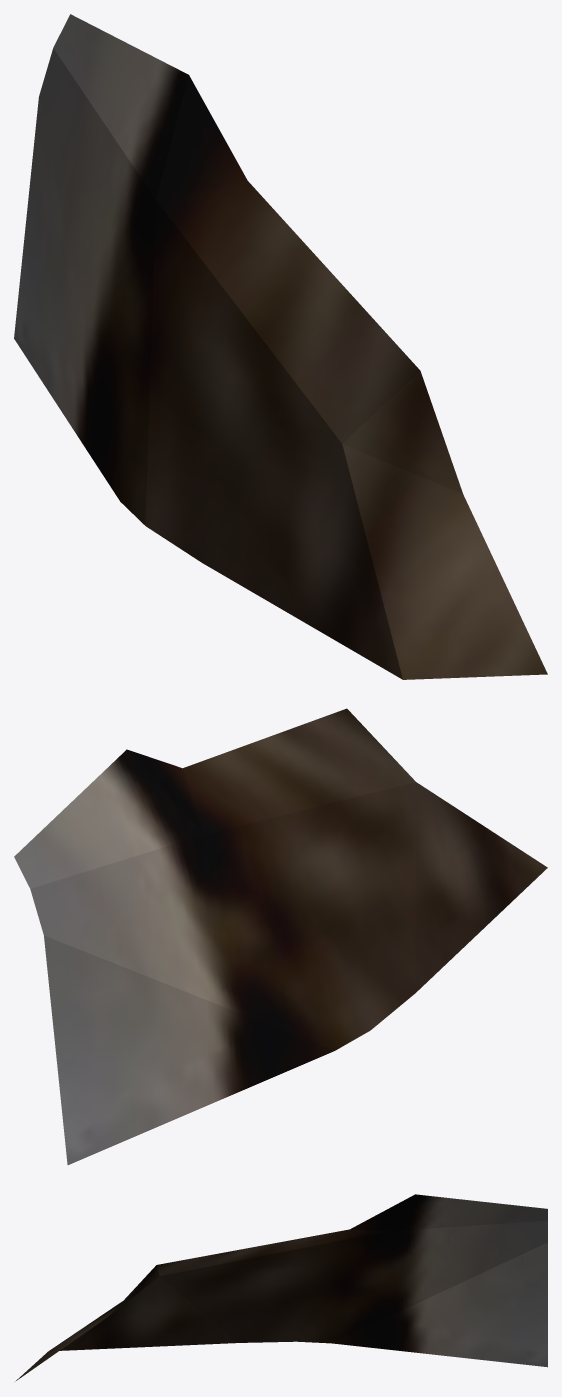
The picture shows the model from 3 angles, top to bottom: view 1: azimuth 30°, elevation 25°; view 2: azimuth 150°, elevation 25°; view 3: azimuth 270°, elevation 25°; orthographic projection. The views are drawn at different scales.
Size of the model in its own units: 0.0723 by 0.1554 by 0.3993.
1 material, 1 textured.
